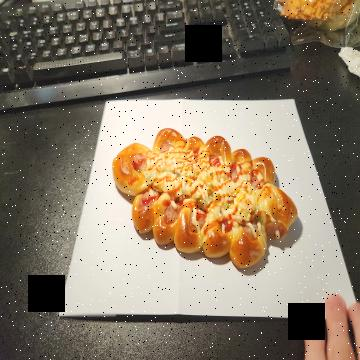pizza_bread: (112, 129, 297, 270)
